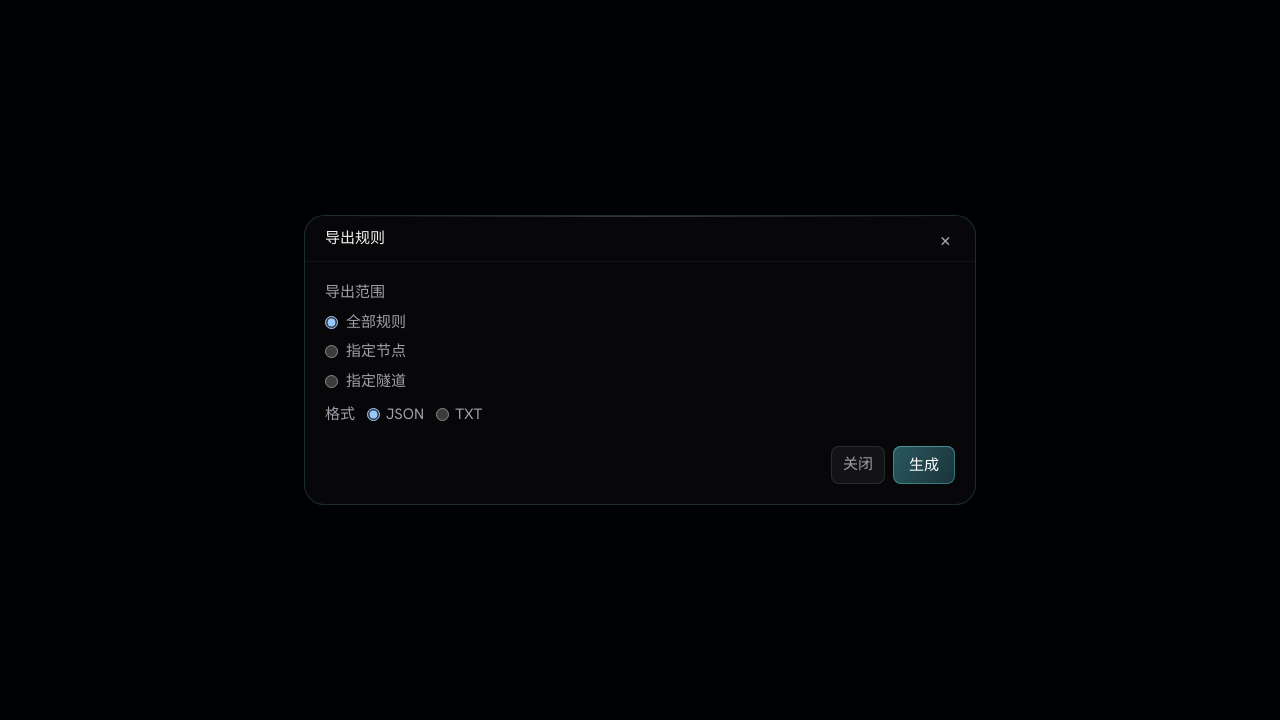
Test case: ExportModal › 生成后 JSON 美化展示,可切 TXT 客户端重格式化
The image size is (1280, 720).
Click the button "生成" at (924, 465), box [893, 446, 955, 484]
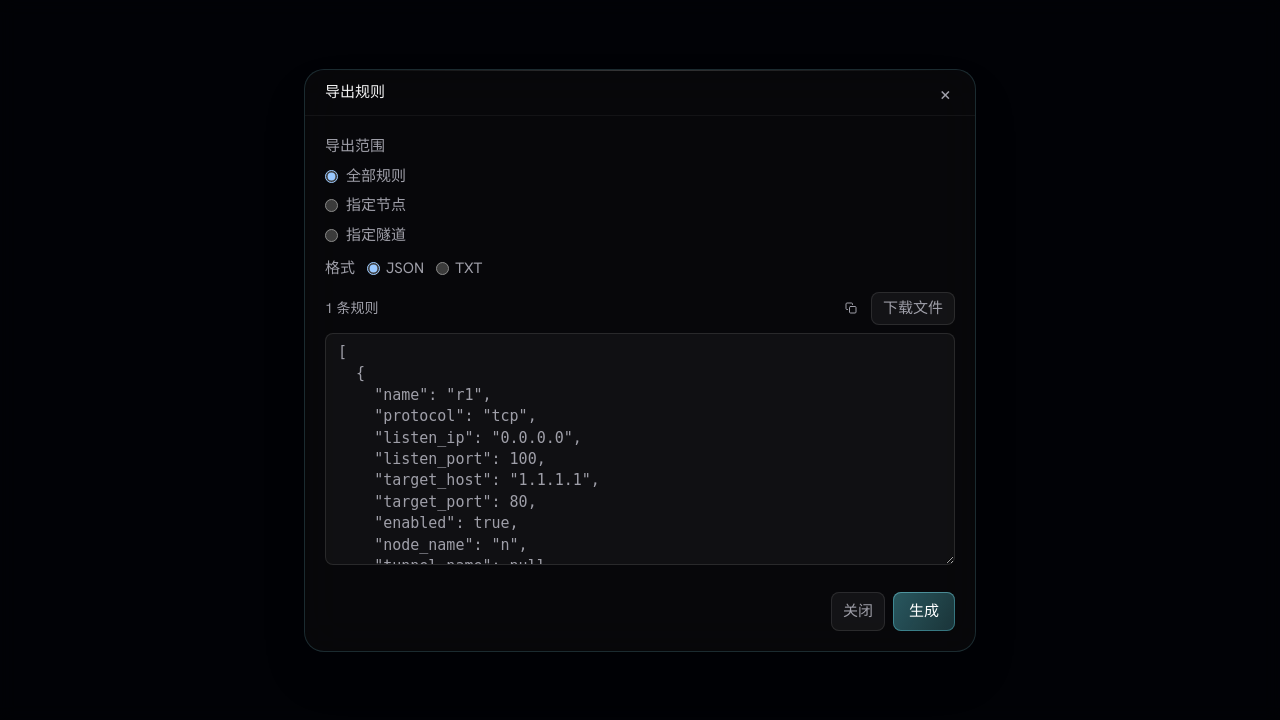
Click the radio button labelled "TXT" at (443, 268), box [436, 262, 449, 275]
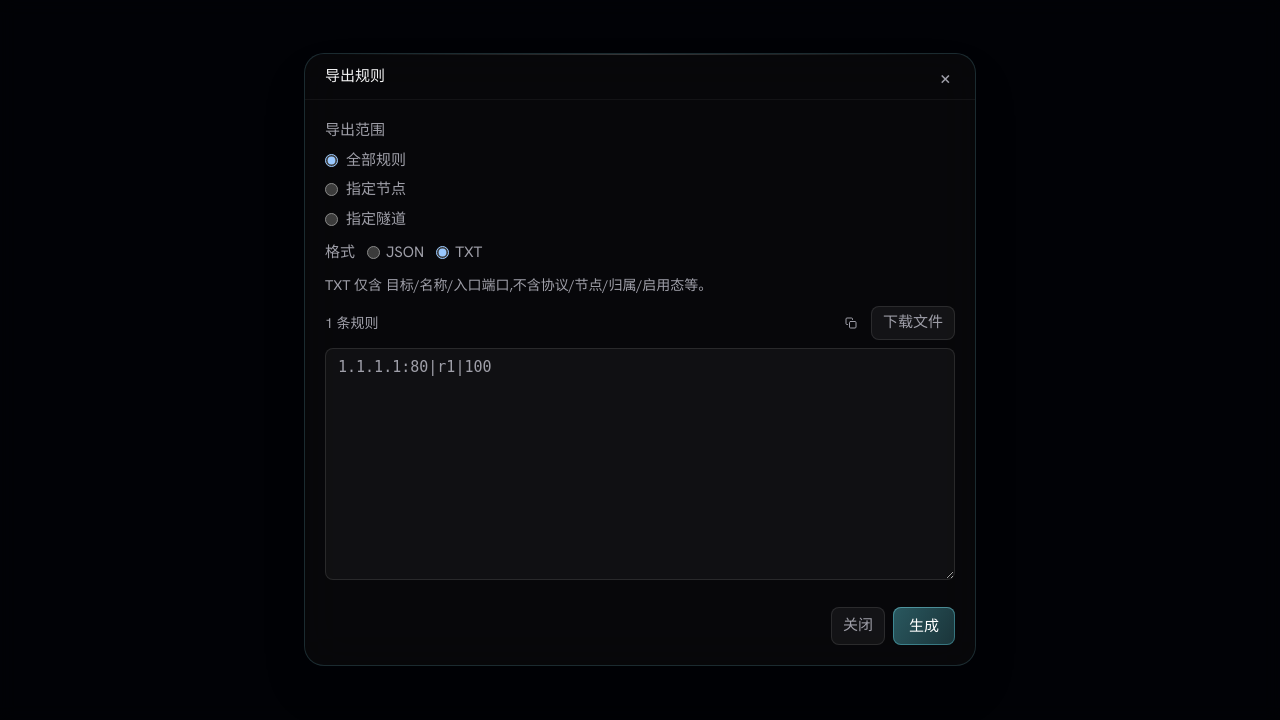
Now the text box named "导出内容" holds "1.1.1.1:80|r1|100", box [325, 348, 955, 580]
